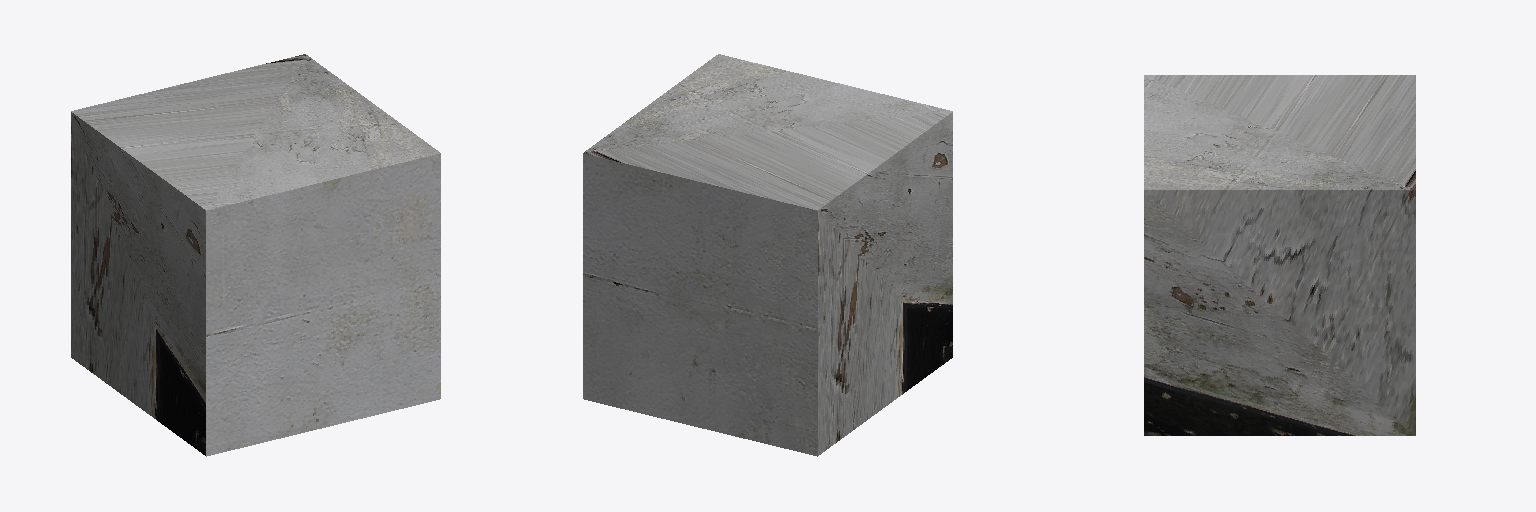
3 renders of one model, left to right at view 1: azimuth 30°, elevation 25°; view 2: azimuth 150°, elevation 25°; view 3: azimuth 270°, elevation 25°, orthographic.
Parts seen in each view (by area): view 1: Cube.003_Cube.004; view 2: Cube.003_Cube.004; view 3: Cube.003_Cube.004.
Boxes of the visible parts, x1,y1,x2,y2 form: Cube.003_Cube.004: [71, 54, 440, 456]; Cube.003_Cube.004: [583, 54, 952, 456]; Cube.003_Cube.004: [1144, 75, 1415, 435].
Bounding box in the file's own units: 4 × 4.02 × 4.
Materials: 4 (1 with a texture image).